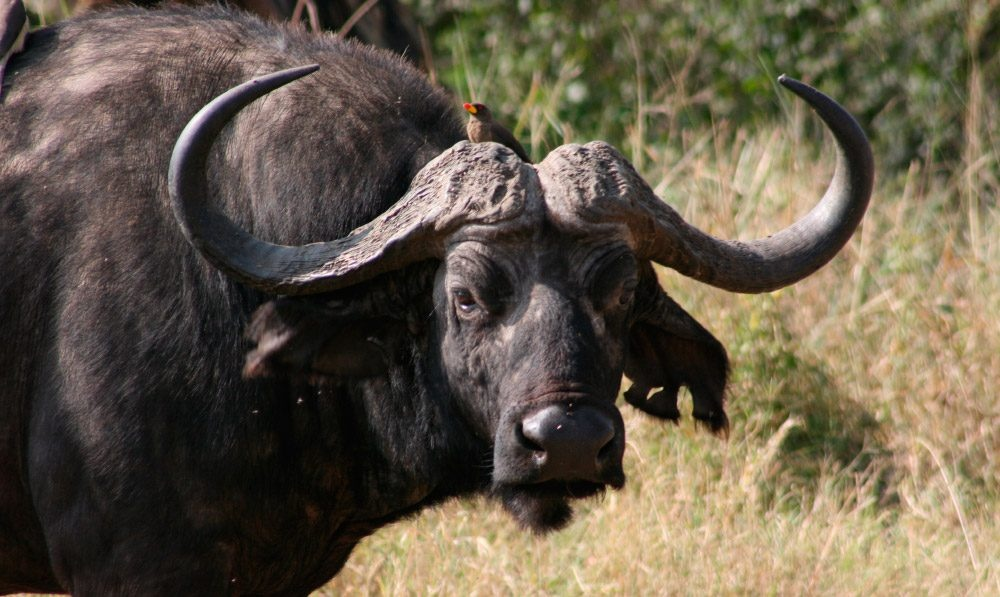buffalo: (3, 13, 876, 596)
